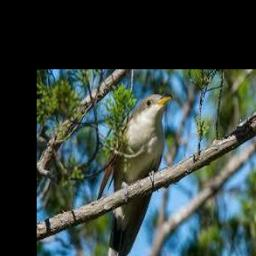Cuckoo: (96, 94, 173, 256)
